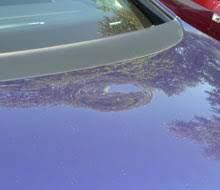bonnet-dent: (3, 50, 198, 189)
